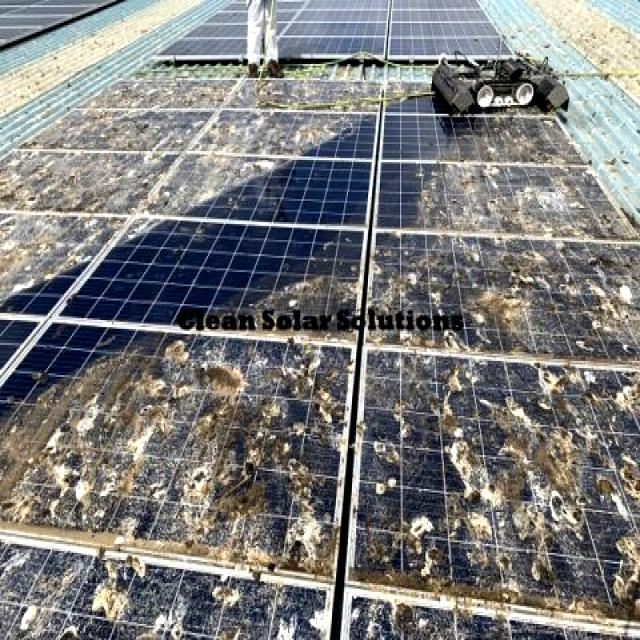bird: (488, 408, 618, 532), (39, 412, 128, 507), (207, 444, 310, 506), (492, 220, 558, 312), (91, 540, 150, 619), (176, 353, 286, 391), (591, 249, 639, 331), (203, 556, 258, 624), (417, 531, 458, 576)
